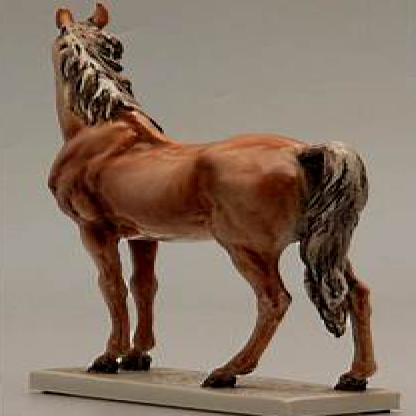horse: (48, 3, 378, 390)
